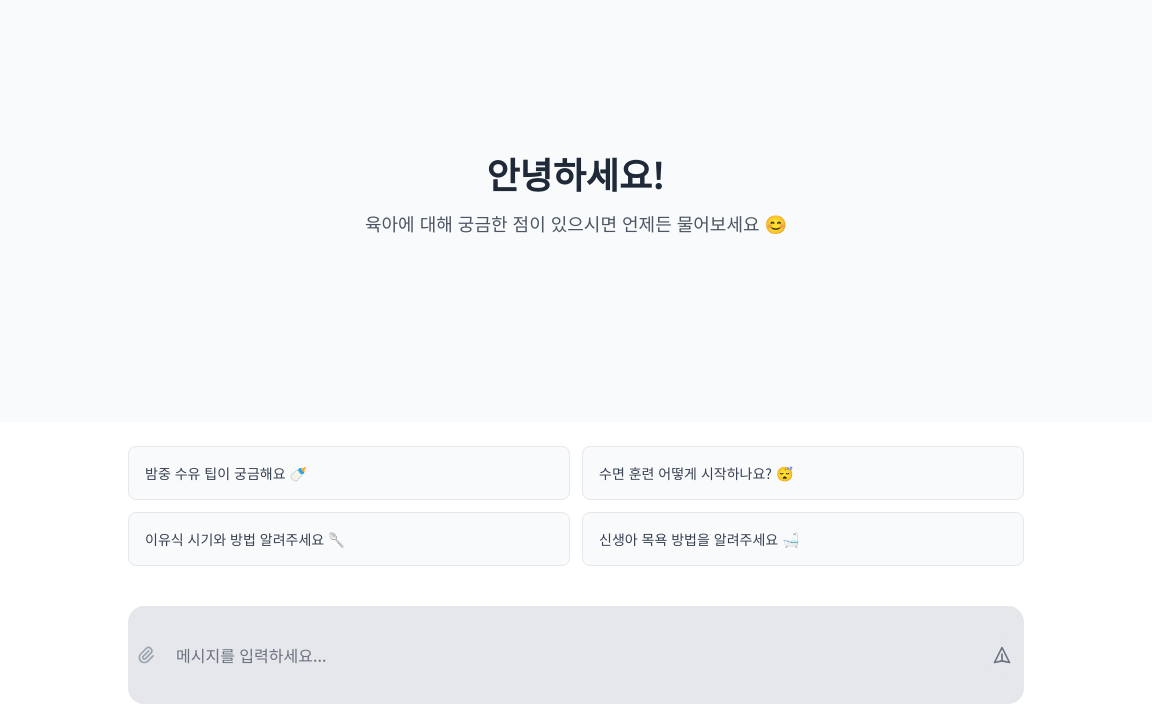
ChatLayout 컴포넌트 › 로딩 중에는 스피너가 표시되어야 한다
In the text box with placeholder "메시지를 입력하세요...": x=574, y=655 [164,639,984,671], type "테스트"
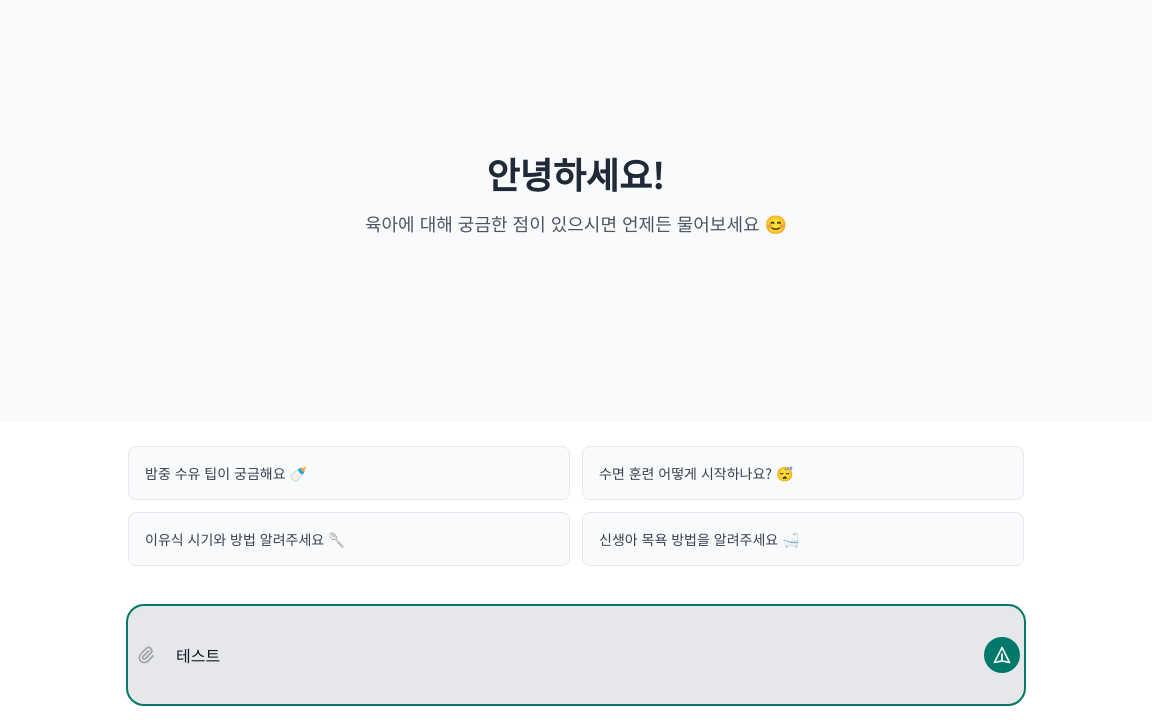
Click the button named "메시지 전송": x=1002, y=655 [984,637,1020,673]
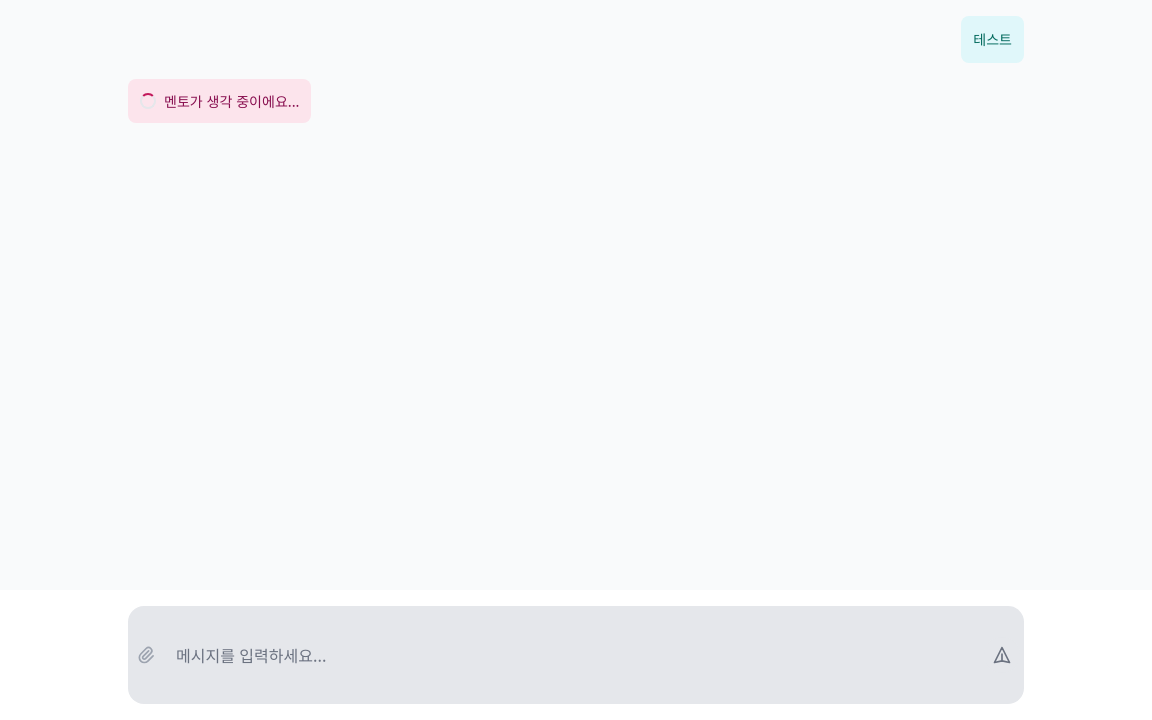
expect the text "멘토가 생각 중이에요..." is shown: met, box [164,91,300,111]
